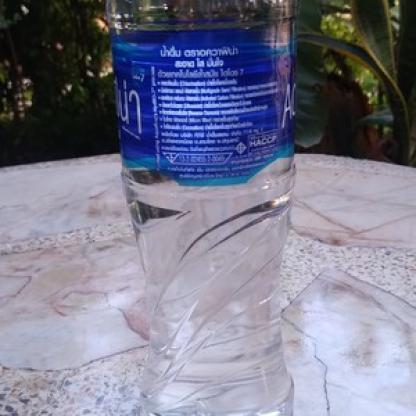plastic_bottle: (105, 1, 298, 416)
